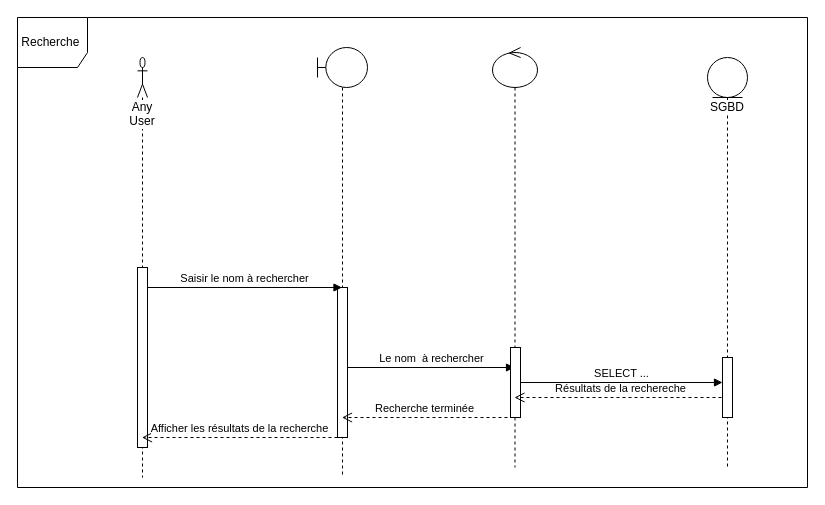
Image size: 825x505. Some labels were removed from this diagram. The box of each missing label's shape, as (x1, y1, x2, y2) in pixels:
Recherche Management: (316, 46, 368, 478)
Recherche Management controller: (492, 46, 538, 468)
